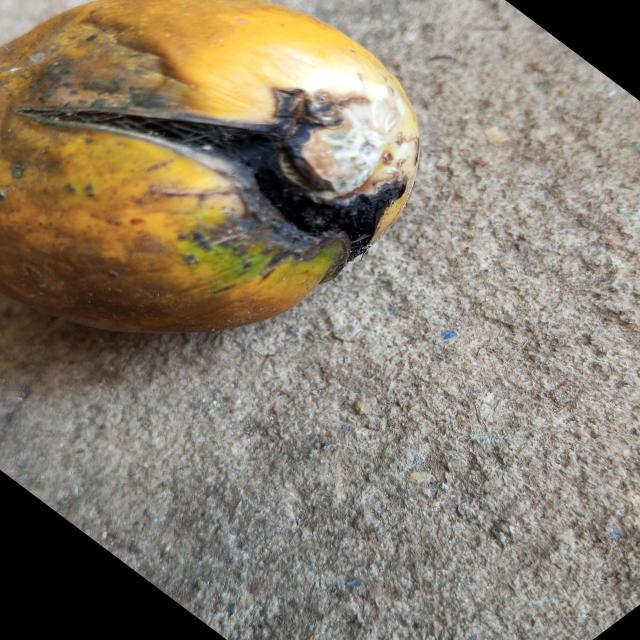damaged: (0, 0, 421, 336)
